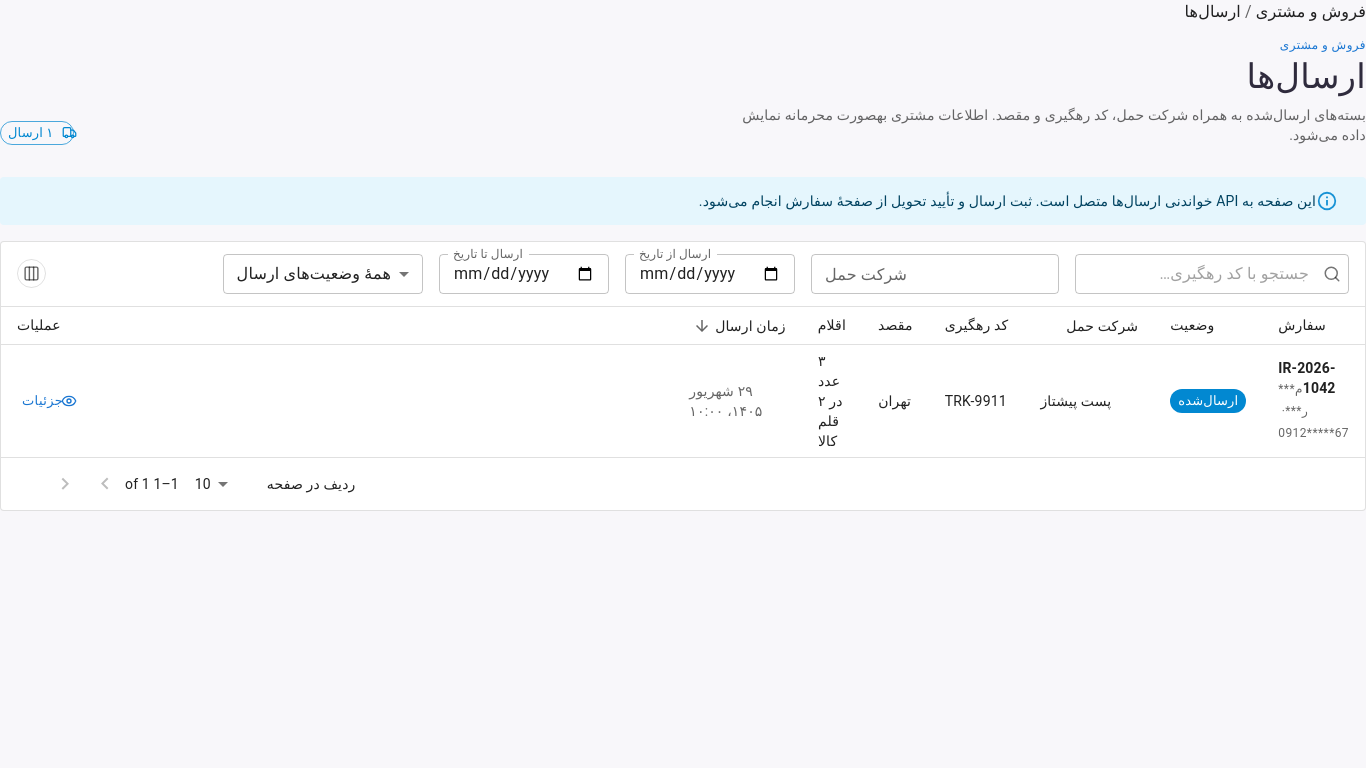
Test case: ShipmentsView › reports a detail failure without crashing the list
Expected: the link "IR-2026-1042" is shown, [1278,360,1336,396]
Click the button "جزئیات" at (54, 401), box [17,386,90,417]
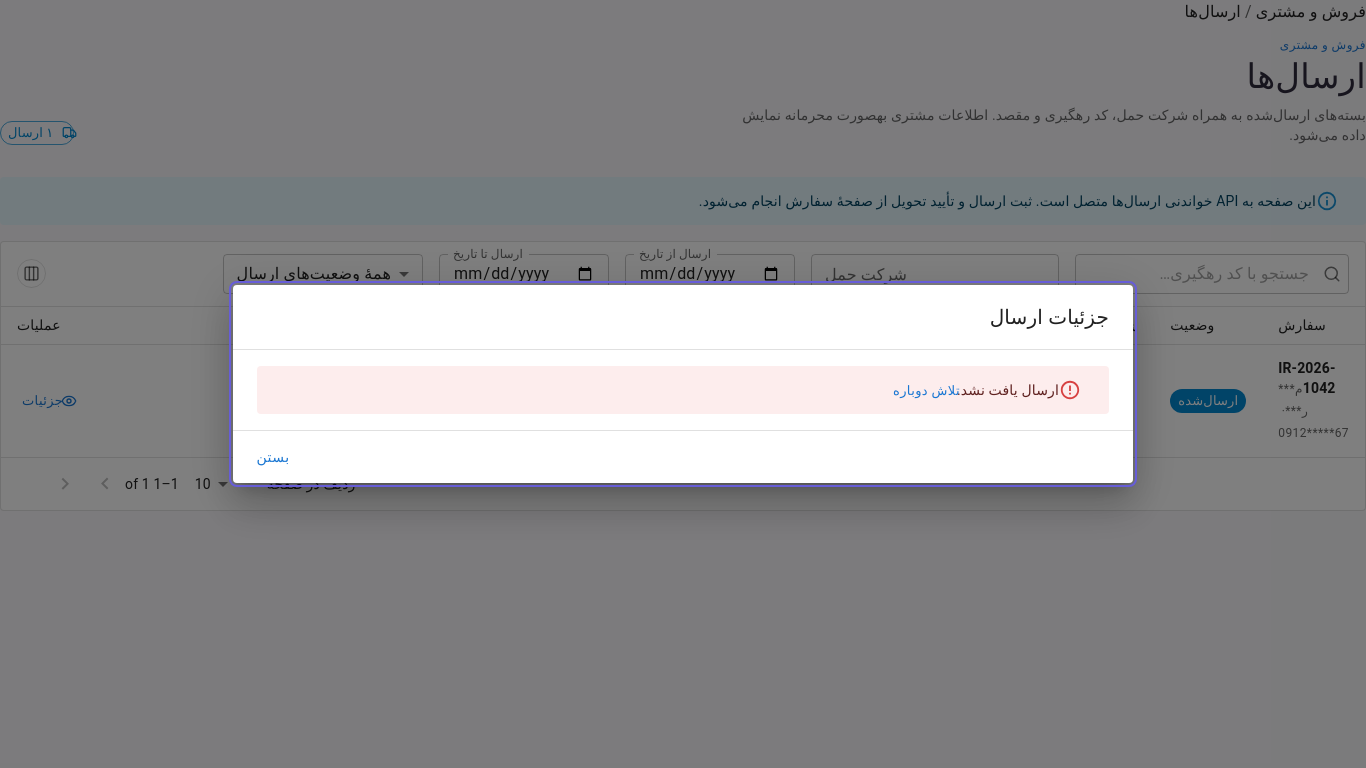
Expected: the link "IR-2026-1042" is shown, [1278,360,1336,396]
Result: the text "ارسال یافت نشد." is shown at [957,382,1059,398]
